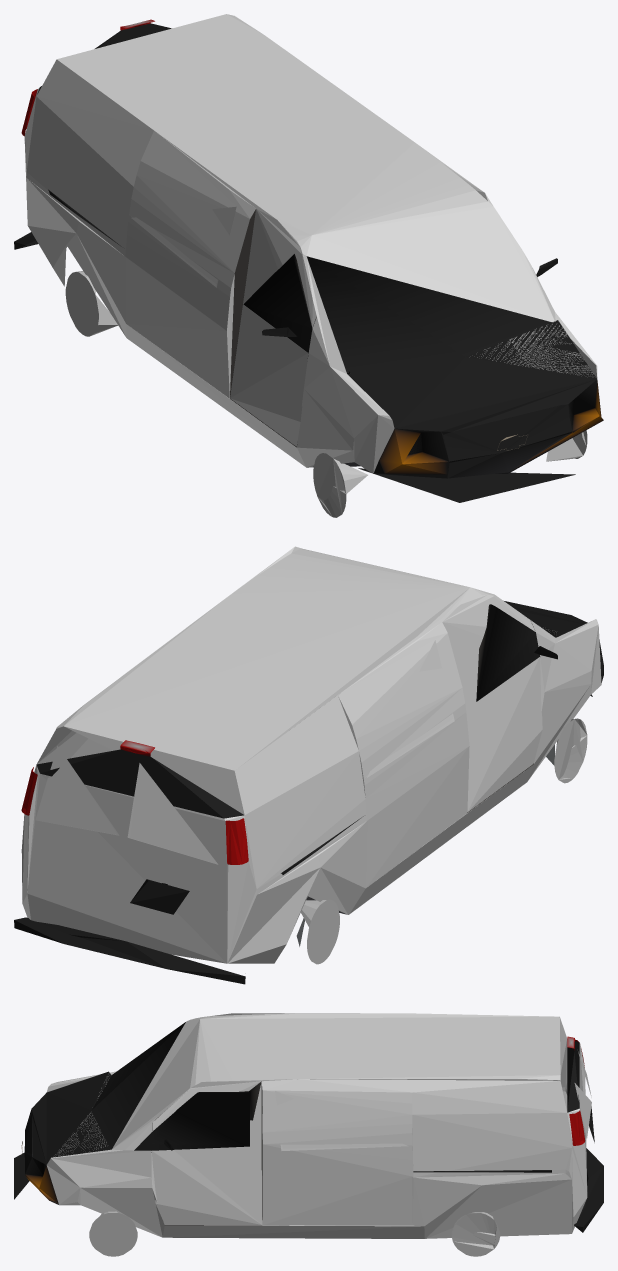
File: cargo-van.lod2.glb
The picture shows the model from 3 angles, top to bottom: view 1: azimuth 30°, elevation 25°; view 2: azimuth 150°, elevation 25°; view 3: azimuth 270°, elevation 25°; orthographic projection. The views are drawn at different scales.
Parts seen in each view (by area): view 1: CG:Cal_3_CG:phong16SG1_0; view 2: CG:Cal_3_CG:phong16SG1_0; view 3: CG:Cal_3_CG:phong16SG1_0.
Part boxes in pixels (x1,y1,x2,y2): CG:Cal_3_CG:phong16SG1_0: [14, 14, 603, 517]; CG:Cal_3_CG:phong16SG1_0: [14, 546, 603, 984]; CG:Cal_3_CG:phong16SG1_0: [14, 1013, 603, 1256].
Bounding box in the file's own units: 2.4 × 1.82 × 5.67.
